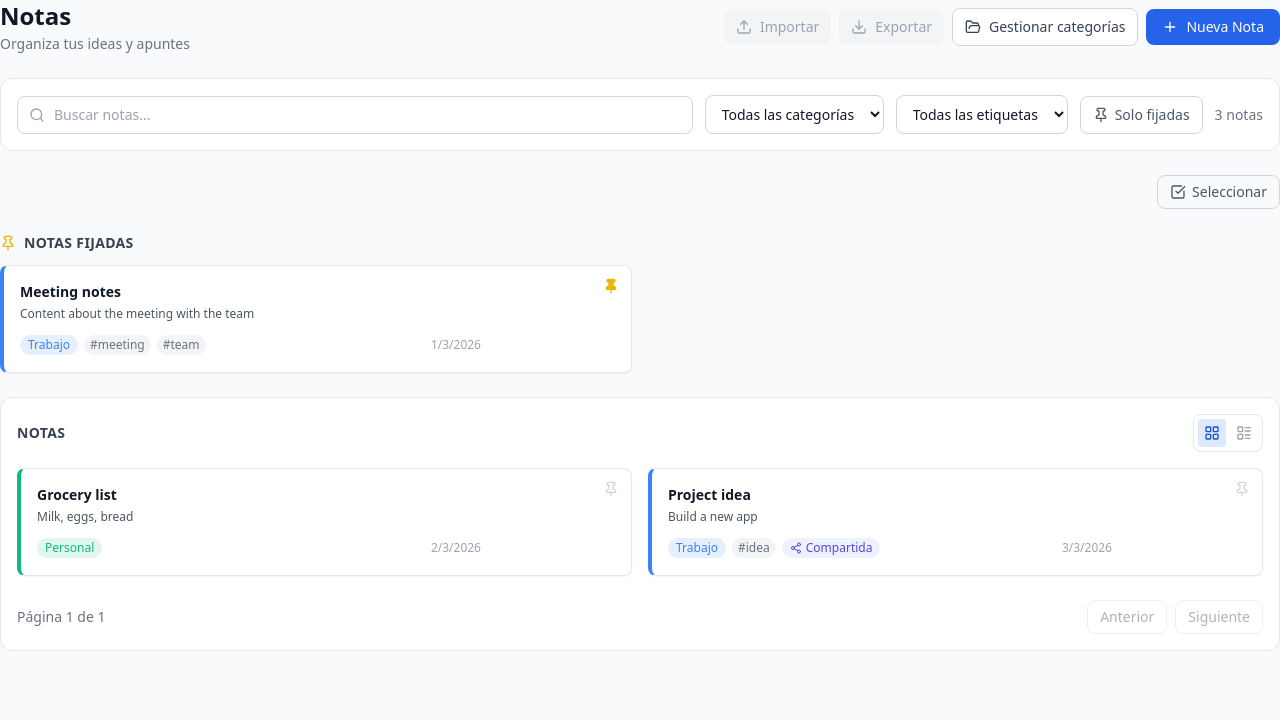
Test case: NotesPage › el botón Nueva Nota abre el NoteModal
Click the button "Nueva Nota".
click(1213, 27)  # box top-left (1146, 9), bottom-right (1279, 45)
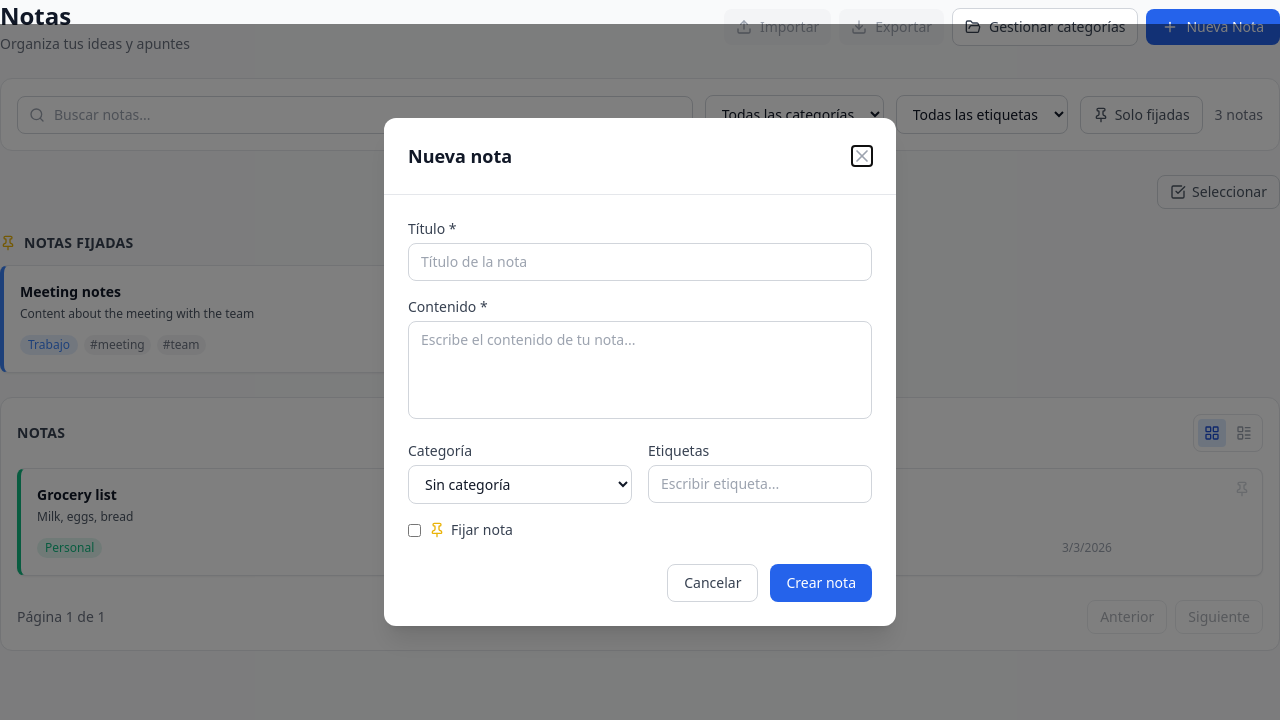
Check: the dialog is shown, box top-left (384, 118), bottom-right (896, 626)
Check: the heading "Nueva nota" is shown, box top-left (408, 142), bottom-right (512, 170)
